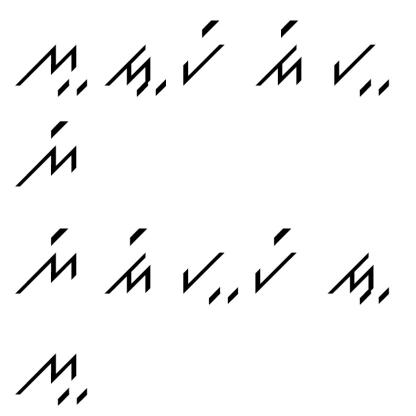dah: (327, 242, 392, 312), (101, 39, 168, 100)
dang: (102, 221, 154, 302), (255, 10, 309, 88)
nah: (9, 42, 89, 102), (13, 348, 90, 407)
nang: (10, 223, 87, 296), (11, 112, 81, 186)
pah: (178, 241, 241, 312), (329, 41, 395, 100)
pang: (178, 17, 228, 90), (252, 224, 300, 294)
